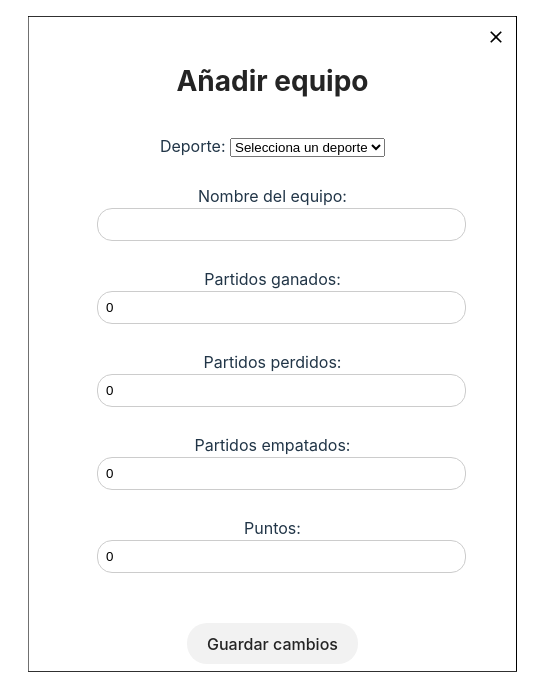
AdminModalTeams Component › Input Validation and Error Messages › shows error message for empty team name field
Step 1. Click the button "Guardar cambios" → x=272, y=644, box [186,623,358,664]
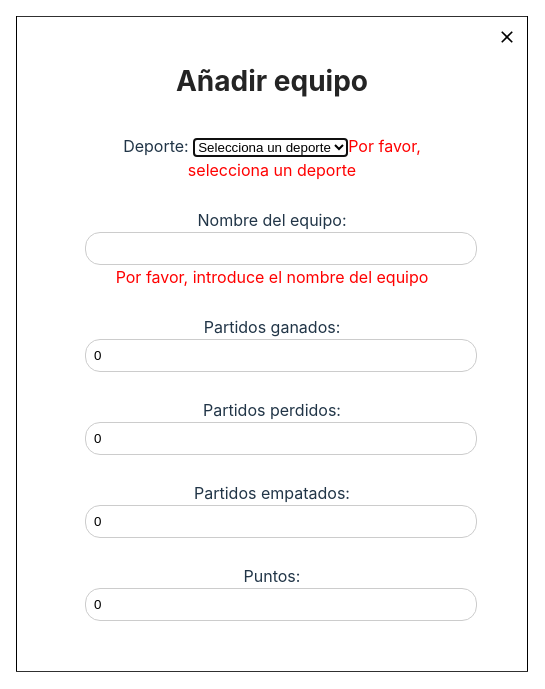
Now the text "Por favor, introduce el nombre del equipo" is shown, box [116,267,428,287]
